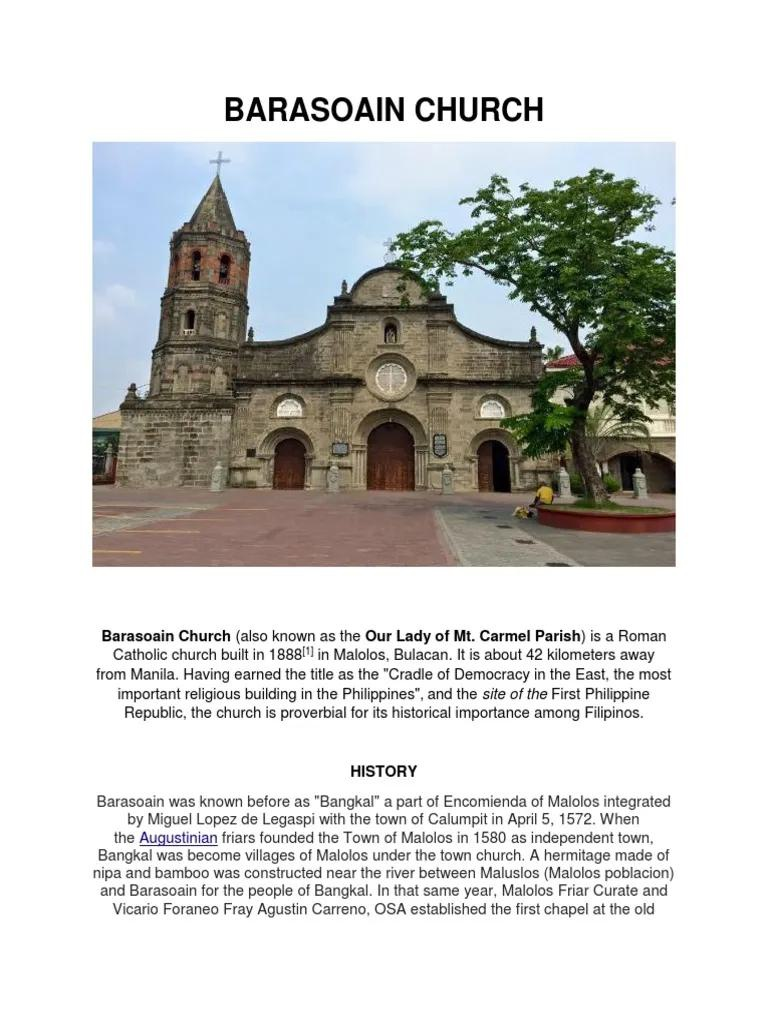barasoain_church_malolos_bulacan: (112, 150, 547, 490)
